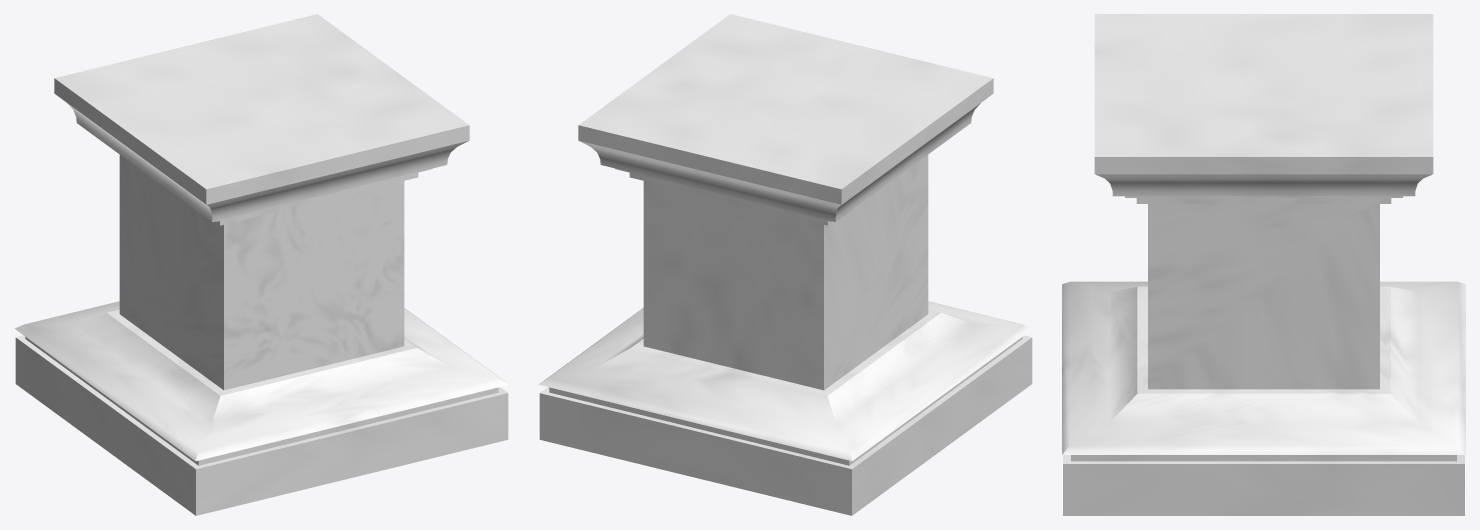
3 renders of one model, left to right at view 1: azimuth 30°, elevation 25°; view 2: azimuth 150°, elevation 25°; view 3: azimuth 270°, elevation 25°, orthographic. The views are drawn at different scales.
Visible parts, largest first — view 1: 立方体; view 2: 立方体; view 3: 立方体.
Boxes of the visible parts, <box> form: 立方体: <box>14,14,508,515</box>; 立方体: <box>539,14,1033,515</box>; 立方体: <box>1062,14,1465,515</box>.
Bounding box in the file's own units: 2.01 × 1.9 × 2.01.
1 material, 1 textured.
